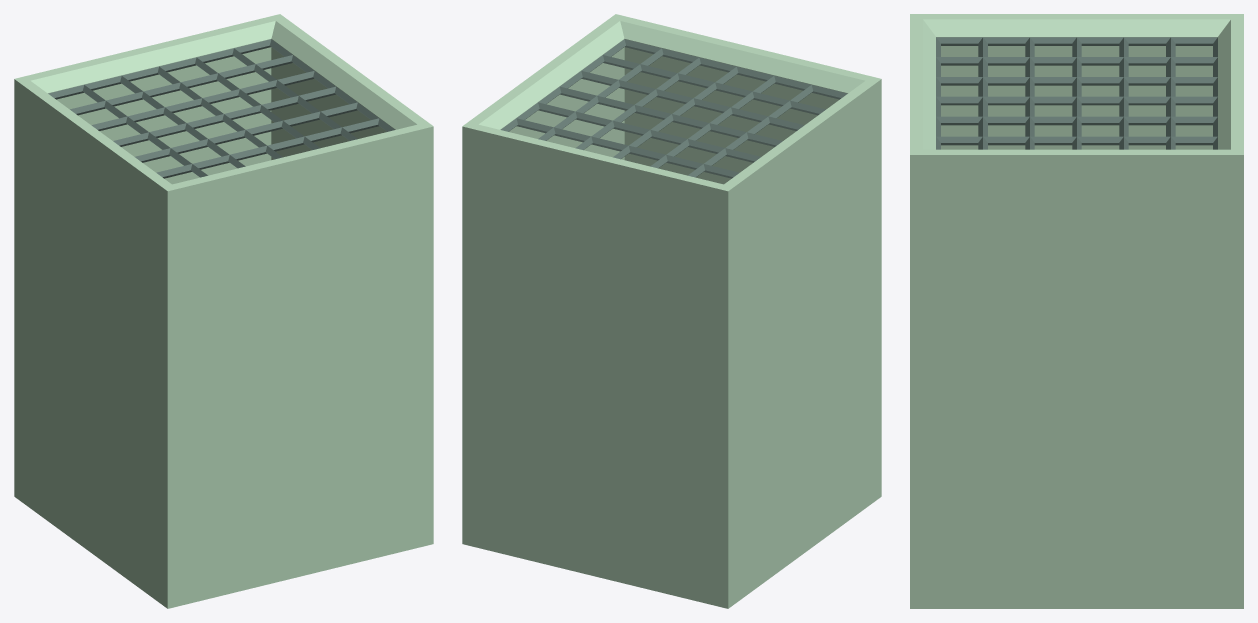
The model's file is GroundGrate.fbx.
3 renders of one model, left to right at view 1: azimuth 30°, elevation 25°; view 2: azimuth 150°, elevation 25°; view 3: azimuth 270°, elevation 25°, orthographic. The views are drawn at different scales.
Visible parts, largest first — view 1: GroundGrate; view 2: GroundGrate; view 3: GroundGrate.
Boxes of the visible parts, x1=… form: GroundGrate: x1=14, y1=14, x2=433, y2=608; GroundGrate: x1=462, y1=14, x2=881, y2=608; GroundGrate: x1=910, y1=14, x2=1243, y2=608.
Bounding box in the file's own units: 1 × 1.5 × 1.
